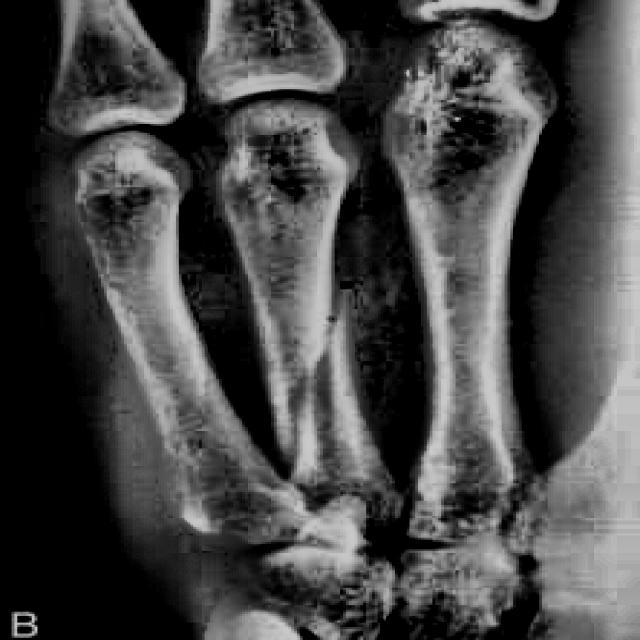fracture: (270, 274, 358, 474)
